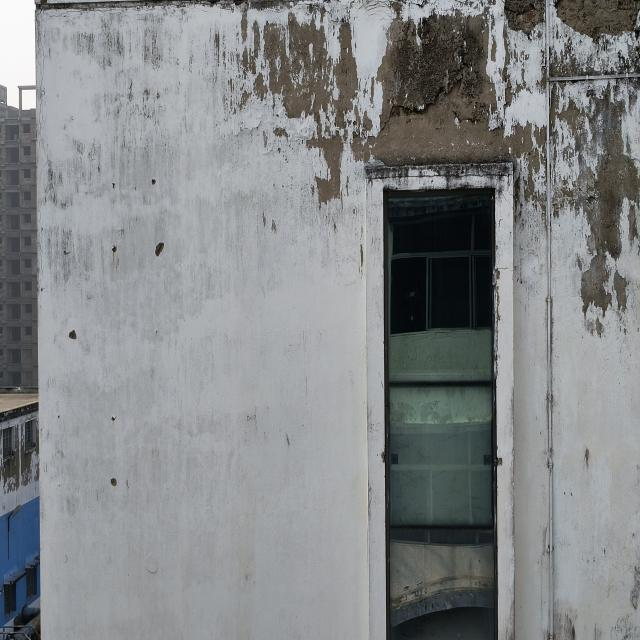crack: (364, 171, 510, 184)
peeling: (234, 1, 360, 202), (551, 78, 640, 335), (373, 10, 505, 161), (505, 125, 546, 227), (556, 0, 640, 40), (505, 0, 544, 37)
